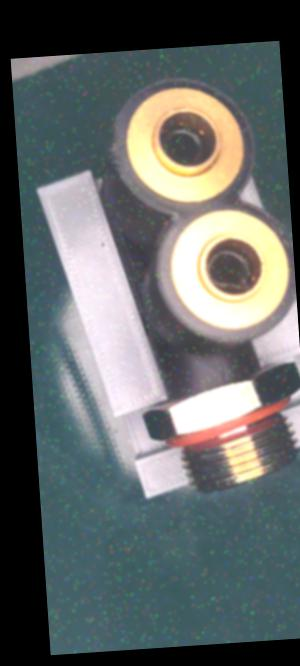off-centered: (204, 243, 256, 295)
white mark: (216, 352, 229, 383)
